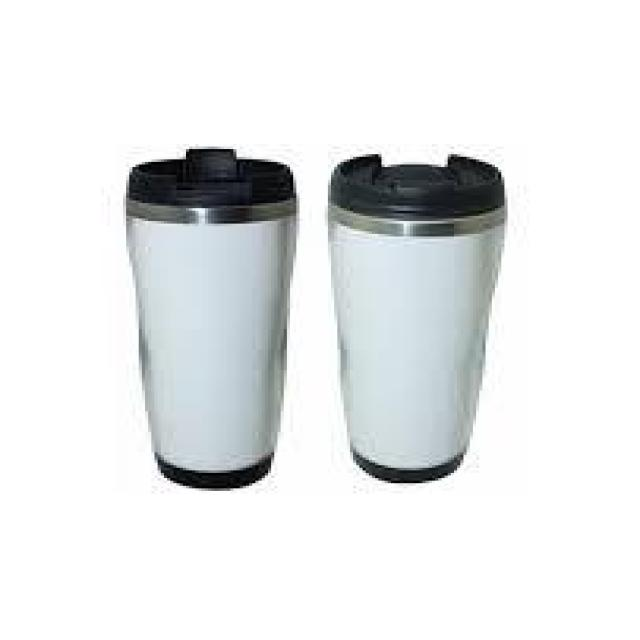bottle: (320, 142, 515, 488), (115, 144, 307, 488)
